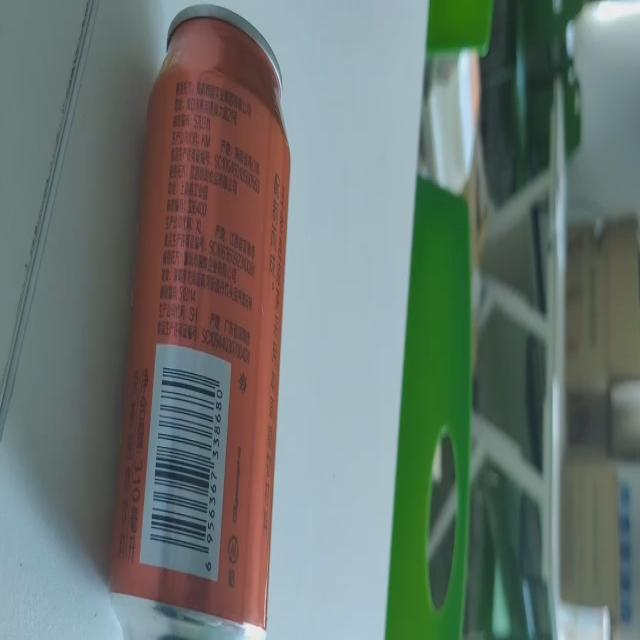can: (110, 8, 290, 635)
